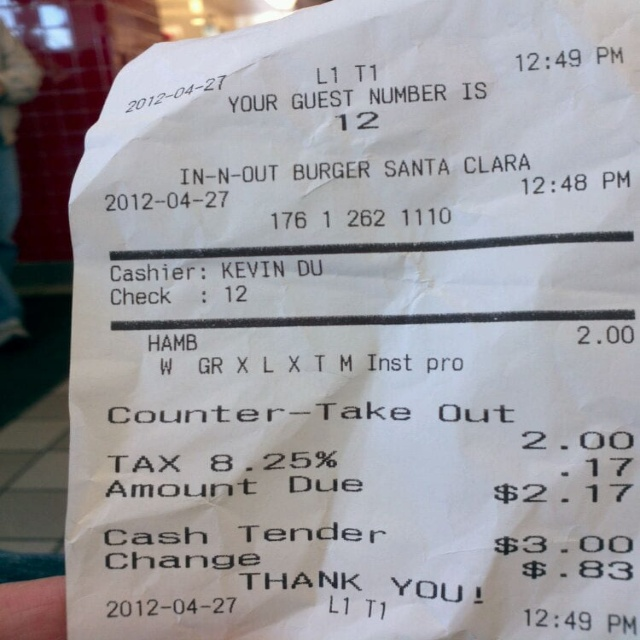invoice_table: (146, 326, 634, 352)
invoice_title: (180, 152, 534, 186)
invoice_total: (106, 476, 634, 504)
